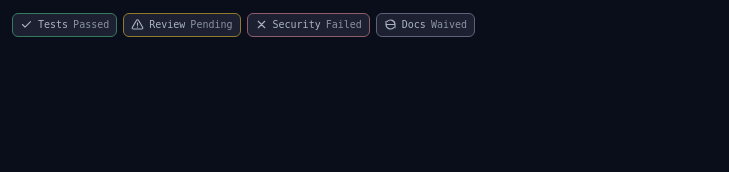
Test: GateStrip › disables waive controls in advisory mode
Click the button "Security Failed": x=308, y=25 [246,13,370,37]
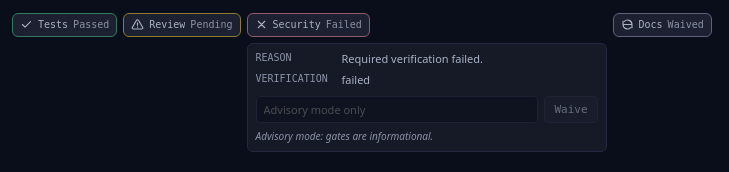
Result: the field named "Waiver reason for Security" is disabled at [256,96,538,123]
Result: the button "Waive" is disabled at [544,96,598,123]
Result: the text "Advisory mode: gates are informational." is shown at [256,129,433,143]
